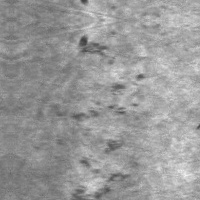rolled-in_scale: (68, 81, 128, 199), (74, 32, 119, 68)
